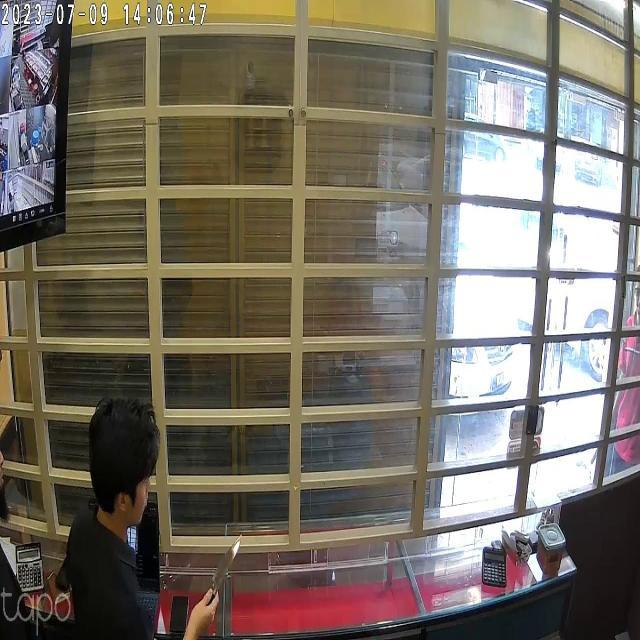Knife: (202, 520, 248, 612)
